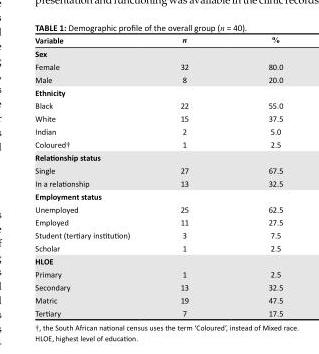table: (34, 34, 282, 317)
table column: (34, 34, 154, 317), (154, 34, 227, 317), (227, 34, 282, 317)
table column header: (34, 34, 282, 47)
table projected row header: (34, 47, 282, 59), (34, 86, 282, 98), (34, 151, 282, 163), (34, 190, 282, 202), (34, 255, 282, 267)
table row: (34, 72, 282, 86), (34, 137, 282, 151), (34, 176, 282, 190), (34, 241, 282, 255), (34, 34, 282, 47), (34, 59, 282, 72), (34, 98, 282, 111), (34, 111, 282, 124), (34, 124, 282, 137), (34, 163, 282, 176), (34, 202, 282, 215), (34, 215, 282, 228), (34, 228, 282, 241), (34, 267, 282, 280), (34, 280, 282, 293), (34, 293, 282, 306), (34, 47, 282, 59), (34, 86, 282, 98), (34, 151, 282, 163), (34, 190, 282, 202), (34, 255, 282, 267), (34, 306, 282, 317)
